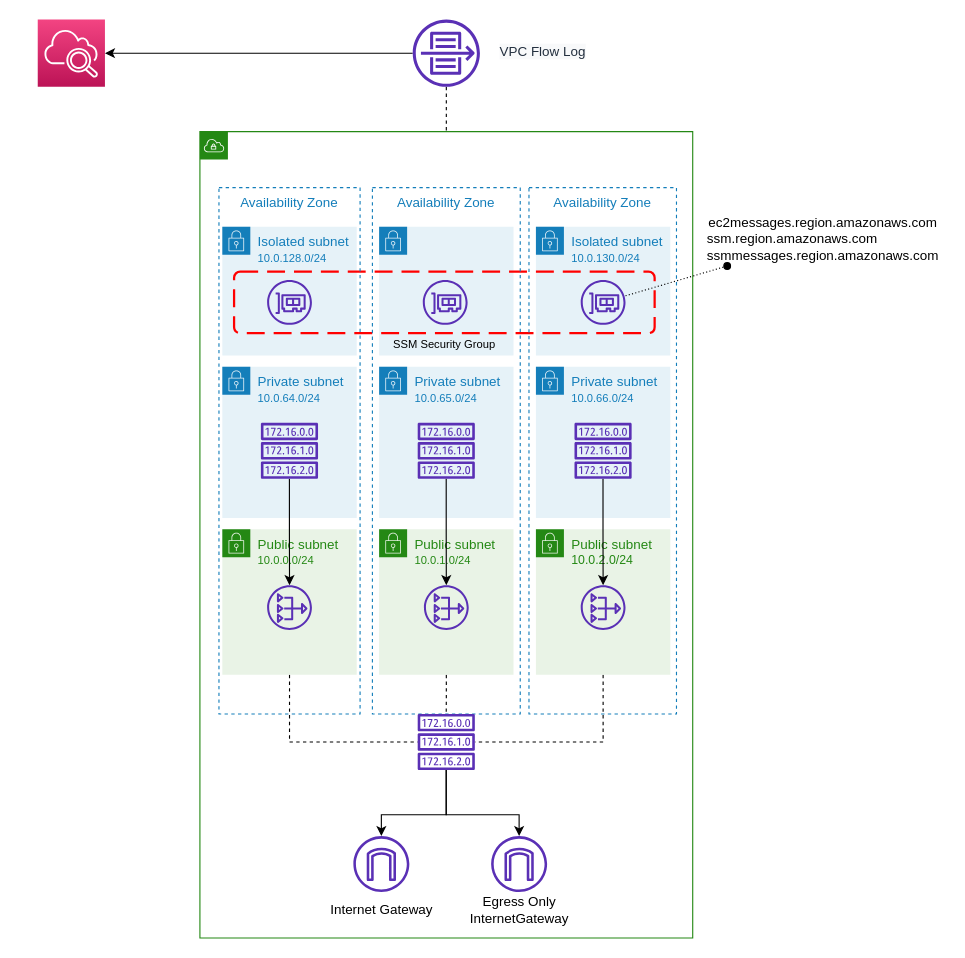
Some shapes in this 965 by 958 pixel diagram are drawn without their labels. The box of each missing label's shape, as (x1, y1, x2, y2) in pixels:
CloudWatch Logs: (37, 18, 105, 87)
Isolated subnet 10.0.129.0/24: (378, 226, 514, 356)
VPC (10.0.0.0/16): (199, 130, 693, 938)
